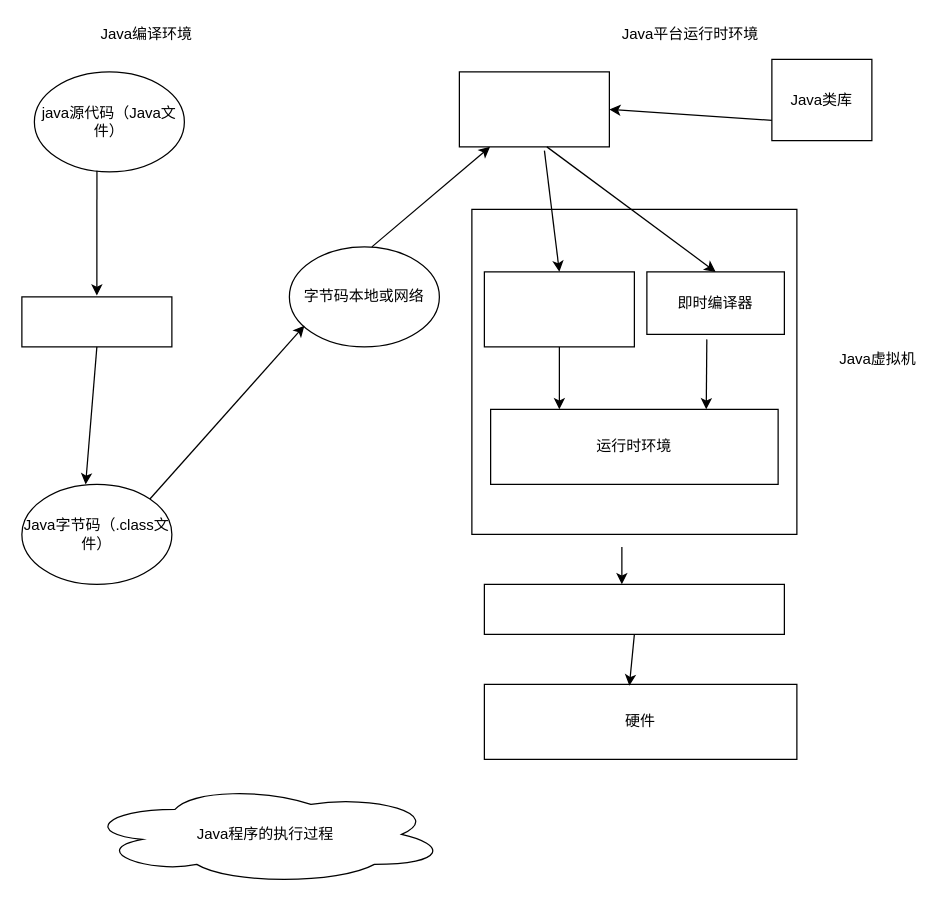
This 944x906 diagram has some shape labels left out. The shapes that lost their labels are listed below. From the top down, each one's centre as x and y in pixels, then its label:
At (x=533, y=109): "类装载器字节码的验证".
At (x=96, y=321): "Java编译器".
At (x=558, y=309): "Java解释器".
At (x=633, y=608): "操作系统".
